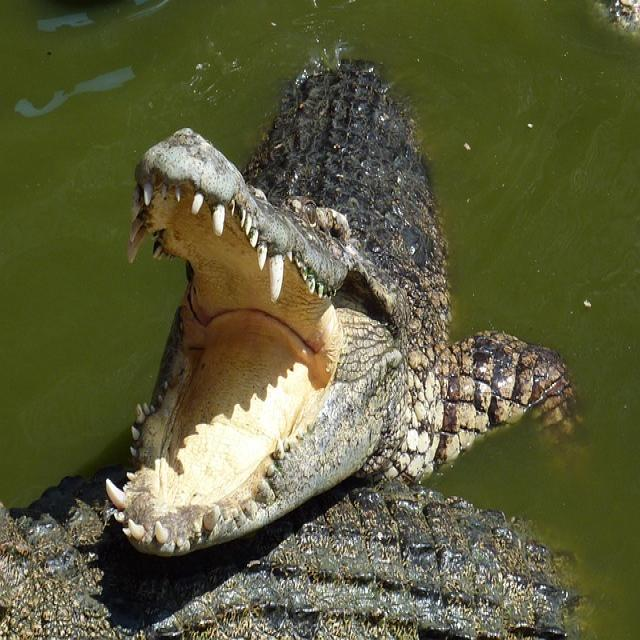Carnivorous: (46, 49, 569, 639), (104, 59, 572, 563), (0, 467, 578, 640)
